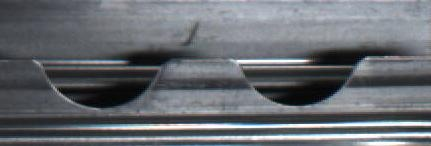twou: (38, 47, 360, 115)
